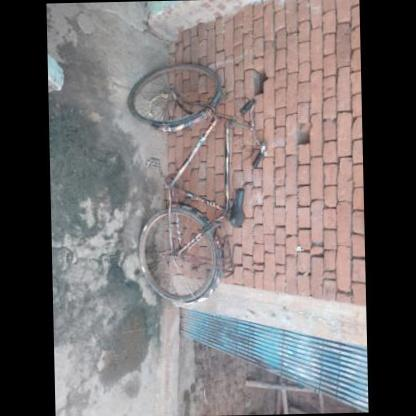Bicycle: (114, 52, 279, 316)
